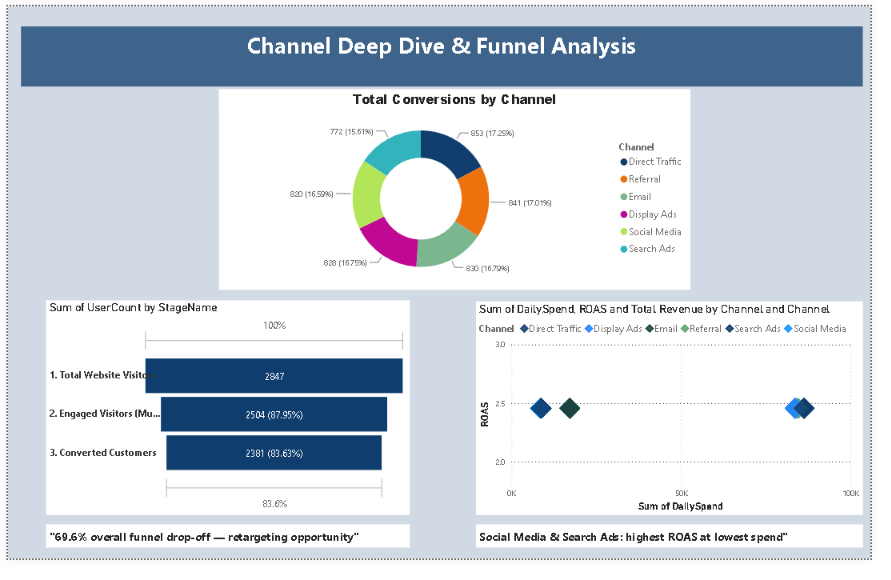

The page's visual inventory and layout, read from the dashboard file:
{"tool":"powerbi","page":{"name":"Channel Deep Dive","canvas":[1250,800],"ordinal":1},"visuals":[{"type":"funnel","fields":{"Category":["FactFunnelStages.StageName"],"Y":["Sum(FactFunnelStages.UserCount)"]},"box":[55.7,426.6,527.2,311.1],"z":0},{"type":"scatterChart","fields":{"Category":["FactAttributionWeights.Channel"],"X":["Sum(AdSpend.DailySpend)"],"Series":["AdSpend.Channel"],"Y":["DimChannel.ROAS"],"Size":["AdSpend.Total Revenue"]},"box":[678,428,561.1,309.8],"z":1000},{"type":"donutChart","fields":{"Category":["FactMarketingPerformance.Channel"],"Y":["AdSpend.Total Conversions"]},"box":[305.7,120.9,683.4,290.8],"z":2000},{"type":"textbox","box":[19,29,1220.1,87],"z":2001},{"type":"textbox","box":[55.7,751.4,527.2,34],"z":2002},{"type":"textbox","box":[678,751.4,561.1,34],"z":2003}]}

Visuals, with their boxes in screenshot pixels (x1, y1, x2, y2), scaled from the page's 1250x800 canvas onto the 891x580 screenshot:
funnel - FactFunnelStages.StageName x Sum(FactFunnelStages.UserCount): rect(40, 309, 415, 535)
scatterChart - FactAttributionWeights.Channel x Sum(AdSpend.DailySpend): rect(483, 310, 883, 535)
donutChart - FactMarketingPerformance.Channel x AdSpend.Total Conversions: rect(218, 88, 705, 298)
textbox: rect(14, 21, 883, 84)
textbox: rect(40, 545, 415, 569)
textbox: rect(483, 545, 883, 569)
